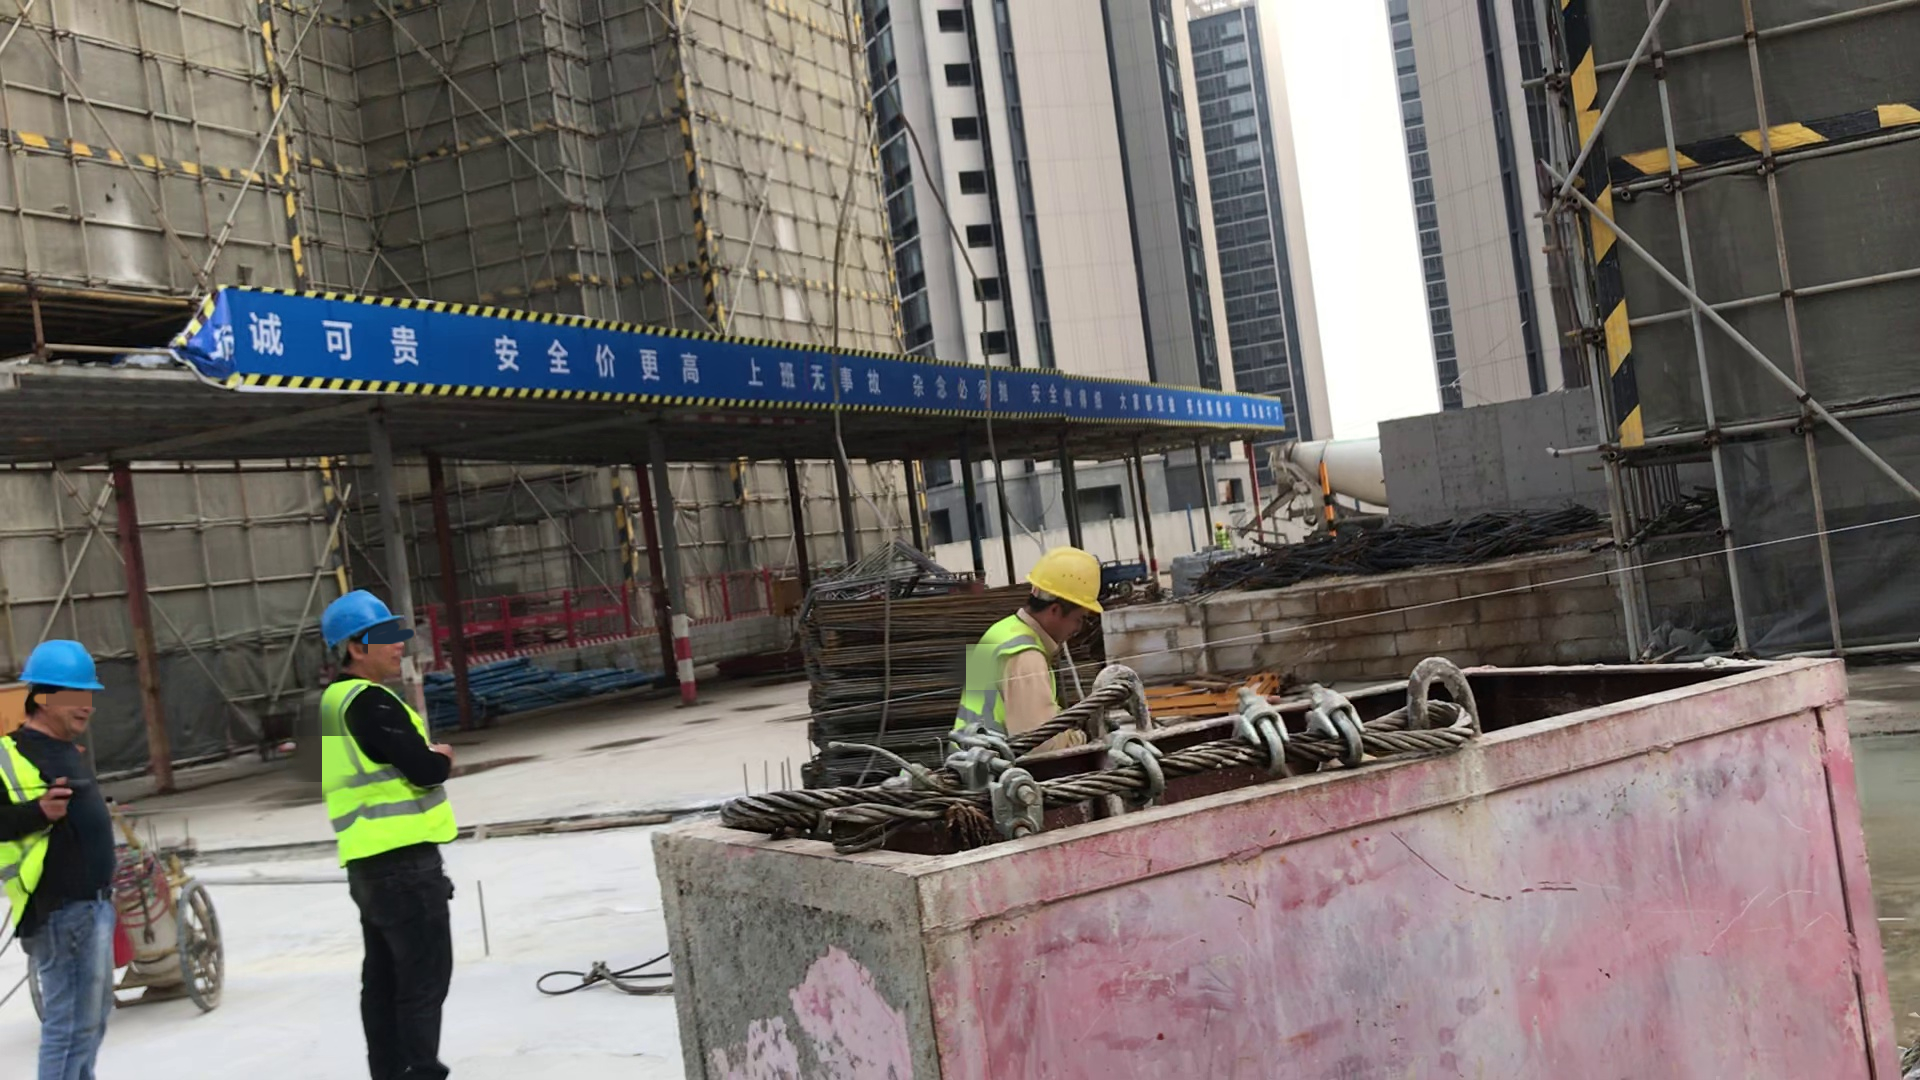helmet: (1011, 526, 1111, 608), (21, 633, 110, 696), (304, 586, 403, 634)
person: (288, 596, 472, 1080), (2, 628, 130, 1080), (945, 541, 1132, 771)
vest: (304, 674, 463, 852), (955, 620, 1068, 744), (1, 733, 61, 938)
